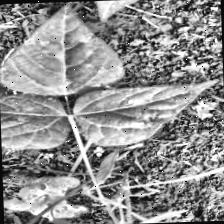ALS: (0, 10, 124, 94), (78, 80, 218, 144), (0, 95, 68, 152)
